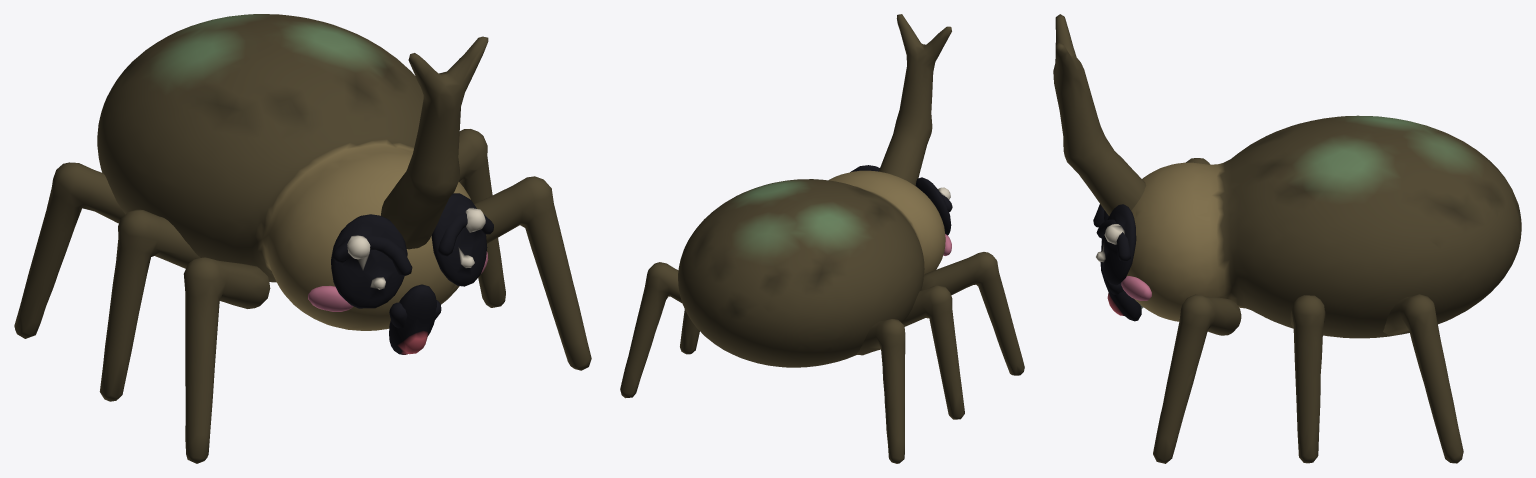
The model's file is barkbille.glb.
3 renders of one model, left to right at view 1: azimuth 30°, elevation 25°; view 2: azimuth 150°, elevation 25°; view 3: azimuth 270°, elevation 25°, orthographic. The views are drawn at different scales.
Parts seen in each view (by area): view 1: body_mesh, horn_mesh, leg_0, leg_1, leg_3, leg_4, eye_L, eye_R, leg_2, mouth_open, lid_L, cheek_L (+1 smaller); view 2: body_mesh, horn_mesh, leg_0, leg_4, leg_3, leg_5, eye_L, leg_2; view 3: body_mesh, horn_mesh, leg_1, leg_5, leg_2, eye_R, mouth_open, cheek_R, lid_R.
Boxes of the visible parts, <box> form: body_mesh: <box>97,14,470,330</box>; horn_mesh: <box>381,36,488,249</box>; leg_0: <box>183,257,270,463</box>; leg_1: <box>474,176,591,370</box>; leg_3: <box>99,209,200,401</box>; leg_4: <box>14,162,125,338</box>; eye_L: <box>331,214,407,308</box>; eye_R: <box>431,193,487,286</box>; leg_2: <box>458,129,505,307</box>; mouth_open: <box>389,284,436,354</box>; lid_L: <box>332,235,412,276</box>; cheek_L: <box>308,286,353,311</box>; body_mesh: <box>678,170,945,367</box>; horn_mesh: <box>879,14,951,185</box>; leg_0: <box>921,252,1024,375</box>; leg_4: <box>857,319,905,463</box>; leg_3: <box>902,285,964,419</box>; leg_5: <box>620,262,681,398</box>; eye_L: <box>916,177,951,235</box>; leg_2: <box>680,309,699,354</box>; body_mesh: <box>1127,115,1521,338</box>; horn_mesh: <box>1053,14,1146,215</box>; leg_1: <box>1153,294,1241,463</box>; leg_5: <box>1383,294,1463,463</box>; leg_2: <box>1290,295,1325,463</box>; eye_R: <box>1096,204,1136,285</box>; mouth_open: <box>1100,262,1141,321</box>; cheek_R: <box>1121,276,1151,300</box>; lid_R: <box>1096,219,1130,261</box>.
Bounding box in the file's own units: 0.3624 × 0.3574 × 0.428.
